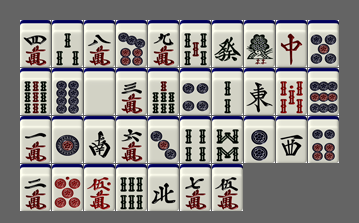0m: (84, 164, 115, 211)
0p: (52, 164, 83, 211)
0s: (276, 68, 307, 115)
1m: (20, 116, 51, 163)
1p: (52, 116, 83, 163)
1s: (244, 20, 275, 67)
1z: (244, 68, 275, 115)
2m: (20, 164, 51, 211)
2p: (244, 116, 275, 163)
2s: (212, 68, 243, 115)
2z: (84, 116, 115, 163)
3m: (116, 68, 147, 115)
3p: (148, 116, 179, 163)
3s: (52, 20, 83, 67)
3z: (276, 116, 307, 163)
4m: (20, 20, 51, 67)
4p: (180, 68, 211, 115)
4s: (180, 116, 211, 163)
4z: (148, 164, 179, 211)
5m: (212, 164, 243, 211)
5p: (308, 20, 339, 67)
5s: (180, 20, 211, 67)
5z: (84, 68, 115, 115)
6m: (116, 116, 147, 163)
6p: (308, 116, 339, 163)
6s: (116, 164, 147, 211)
6z: (212, 20, 243, 67)
7m: (180, 164, 211, 211)
7p: (116, 20, 147, 67)
7s: (148, 68, 179, 115)
7z: (276, 20, 307, 67)
8m: (84, 20, 115, 67)
8p: (52, 68, 83, 115)
8s: (212, 116, 243, 163)
9m: (148, 20, 179, 67)
9p: (308, 68, 339, 115)
9s: (20, 68, 51, 115)
